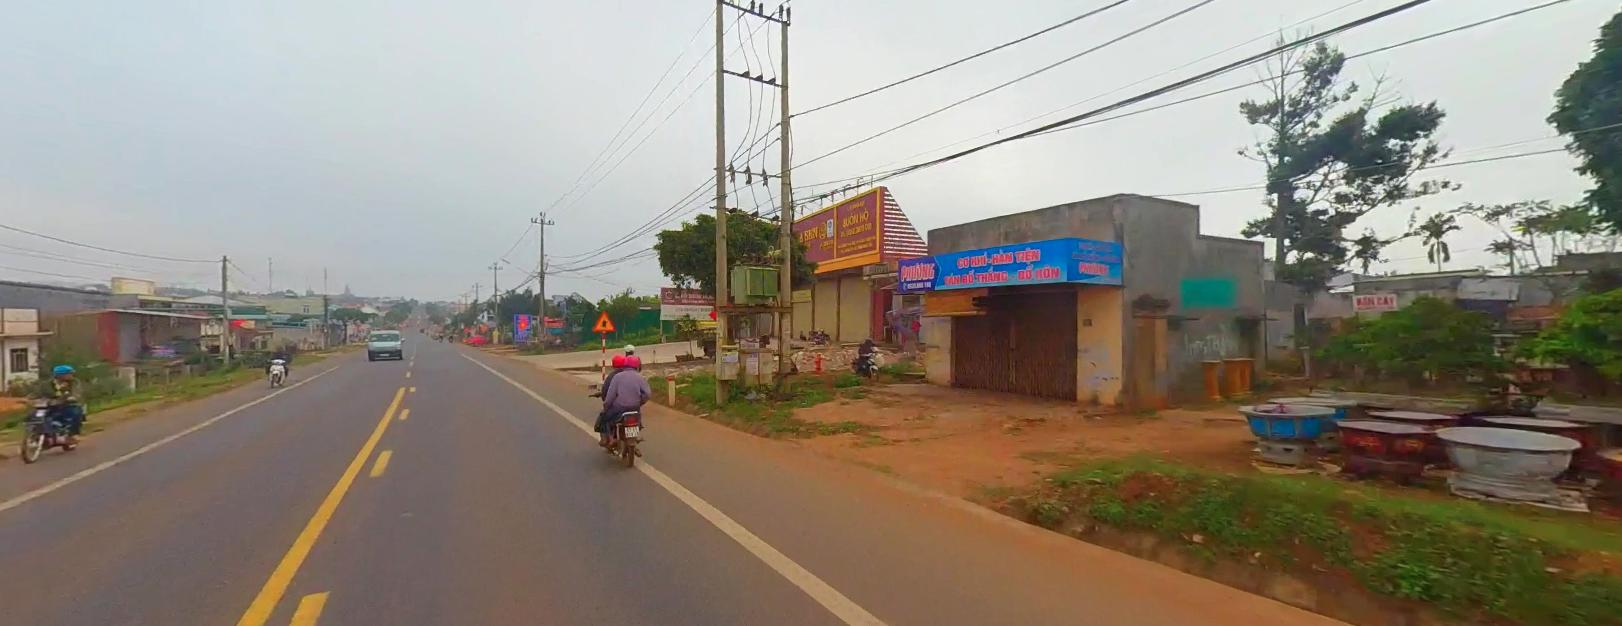Nguy hiem: (592, 309, 615, 330)
